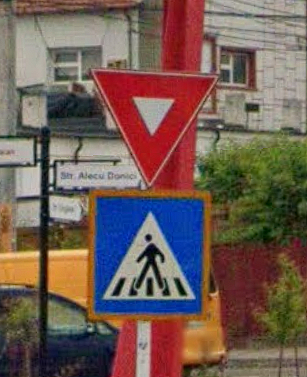cedeaza: (76, 60, 229, 191)
trecere_pietoni: (85, 188, 211, 320)
